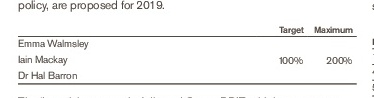table: (0, 0, 374, 98)
